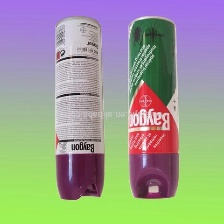aerosol_cans: (51, 12, 110, 203), (125, 15, 181, 205)
